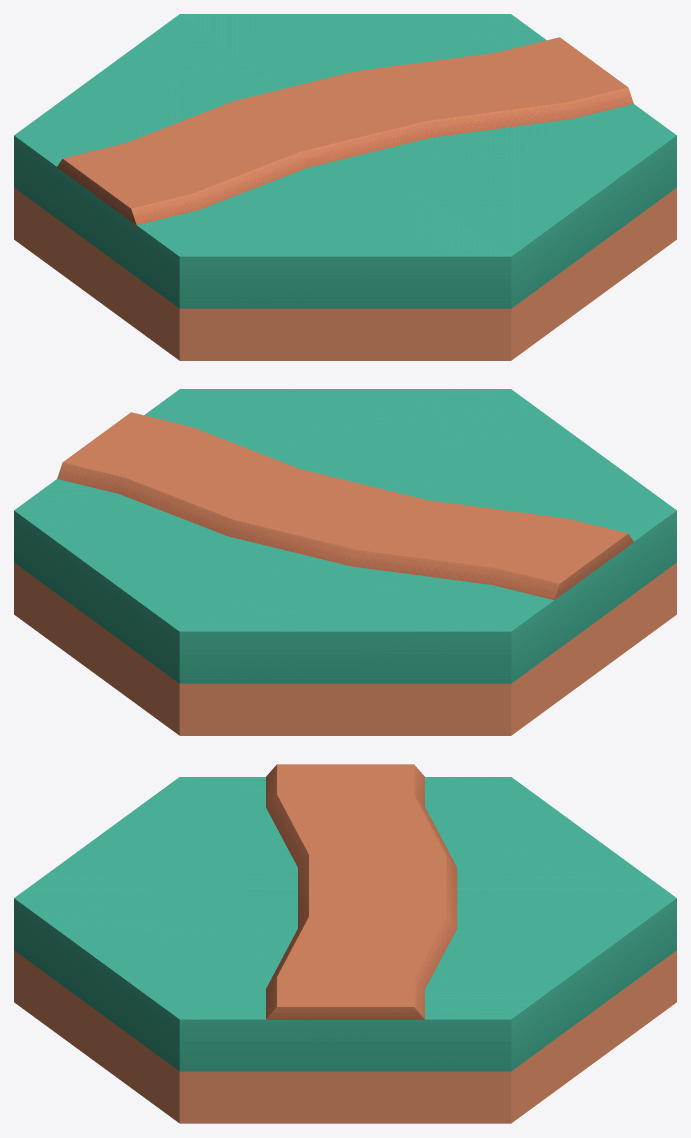
File: grass-path-straight.glb
3 renders of one model, top to bottom at view 1: azimuth 30°, elevation 25°; view 2: azimuth 150°, elevation 25°; view 3: azimuth 270°, elevation 25°, orthographic.
Visible parts, largest first — view 1: grass, path-straight; view 2: grass, path-straight; view 3: grass, path-straight.
Part boxes in pixels (x1,y1,x2,y2): grass: [14, 14, 676, 360]; path-straight: [57, 37, 633, 225]; grass: [14, 389, 676, 735]; path-straight: [57, 412, 633, 599]; grass: [14, 777, 676, 1123]; path-straight: [266, 764, 457, 1019].
Size of the model in its own units: 1 by 0.224 by 1.15.
1 material, 1 textured.
